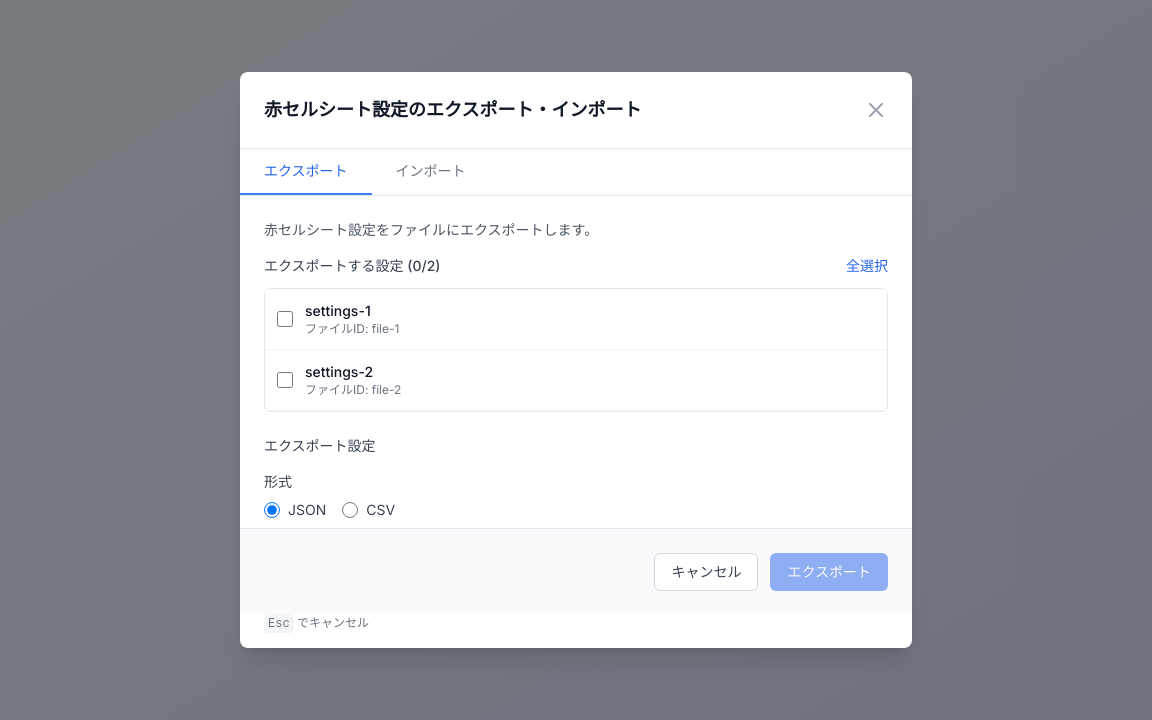
Test: RedactionExportDialog › タブ切り替え › should switch to import tab when clicked
Click the button with test id "import-tab" at [431, 172], box 372,149 -> 490,195
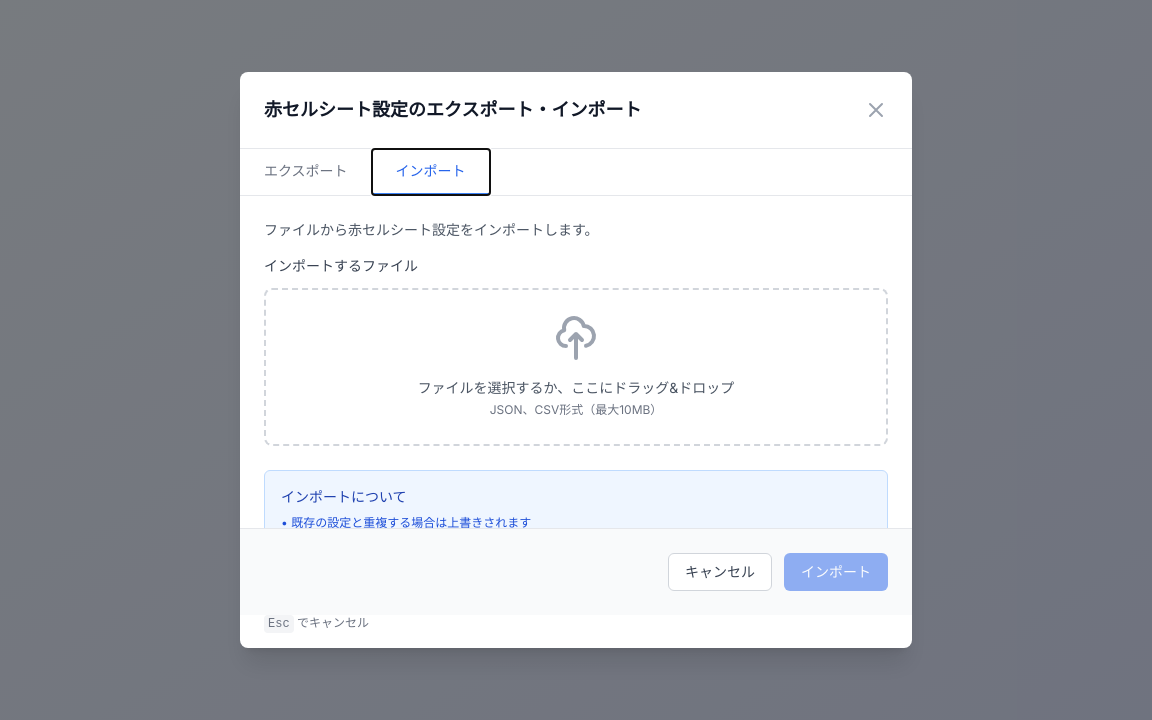
Expected: the text "ファイルから赤セルシート設定をインポートします。" is shown, 264,221 -> 599,238
